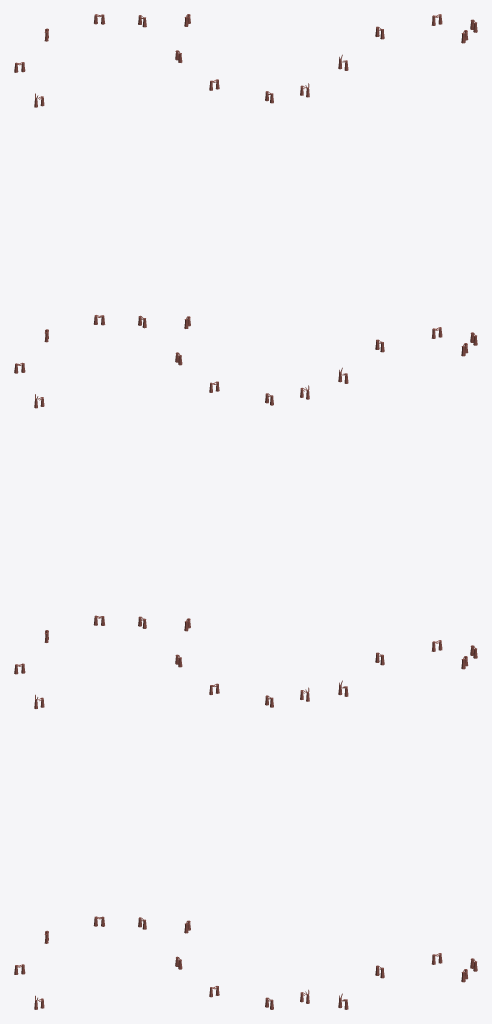
Rendered from Circle5Folk1.obj.
3 renders of one model, left to right at view 1: azimuth 30°, elevation 25°; view 2: azimuth 150°, elevation 25°; view 3: azimuth 330°, elevation 25°, orthographic. The views are drawn at different scales.
Parts seen in each view (by area): view 1: Circle5Folk1; view 2: Circle5Folk1; view 3: Circle5Folk1.
Part boxes in pixels (x1=…): Circle5Folk1: x1=14, y1=14, x2=146, y2=1009; Circle5Folk1: x1=175, y1=14, x2=309, y2=1009; Circle5Folk1: x1=338, y1=14, x2=477, y2=1009.
Size of the model in its own units: 26.5 by 207 by 17.72.
1 material, 1 textured.
